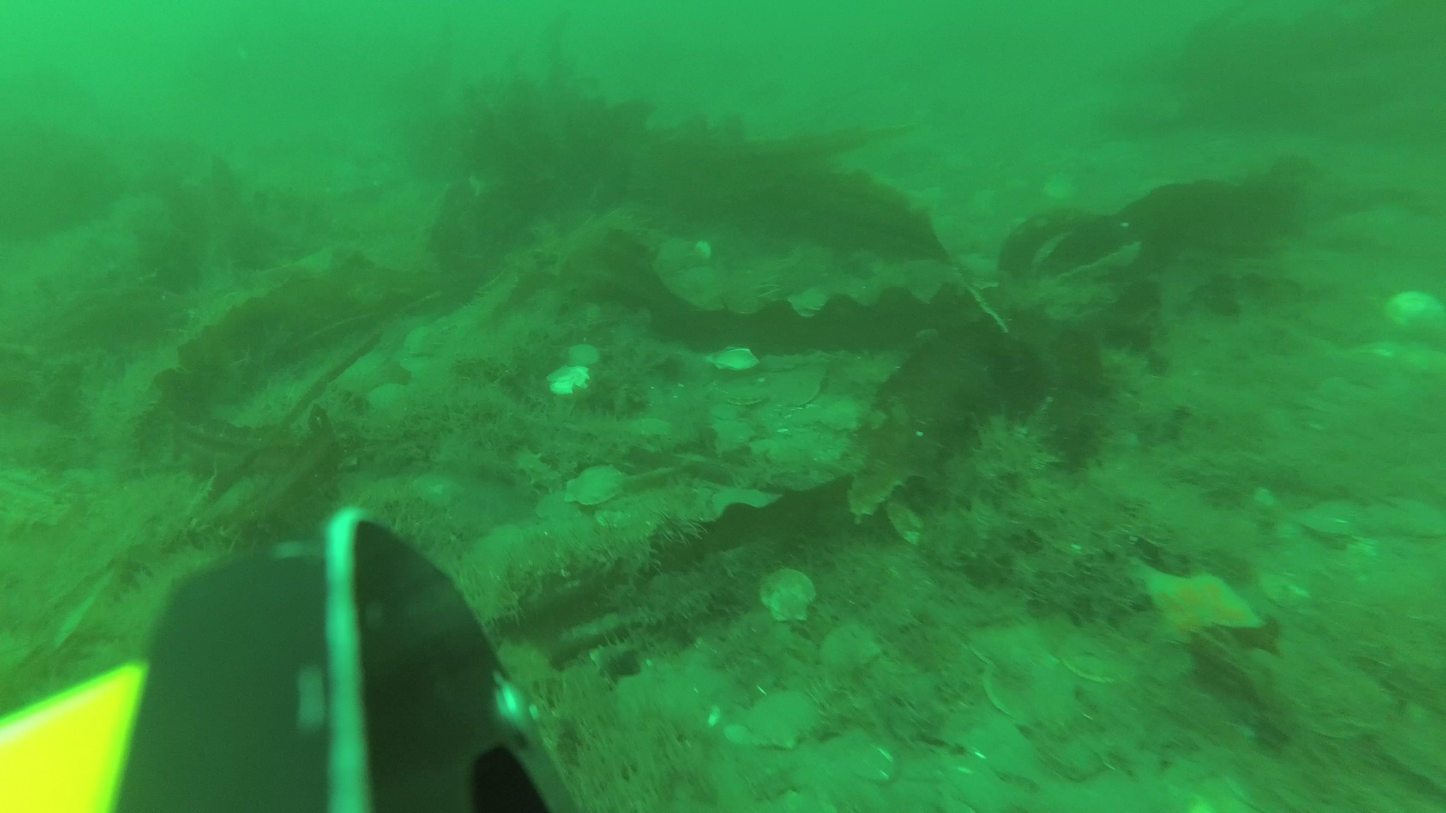echinus: (512, 445, 563, 498)
holothurian: (1125, 554, 1264, 639)
scallop: (979, 647, 1084, 724), (741, 687, 824, 751), (1059, 631, 1133, 684), (819, 619, 885, 677), (1376, 494, 1446, 545), (1300, 494, 1371, 544), (757, 566, 816, 623), (564, 460, 630, 508), (1383, 285, 1446, 334), (403, 324, 451, 363), (819, 395, 869, 431), (705, 416, 756, 451), (711, 345, 766, 376), (546, 364, 594, 398), (781, 375, 822, 409), (798, 281, 833, 316), (723, 386, 772, 410), (565, 339, 599, 371)
